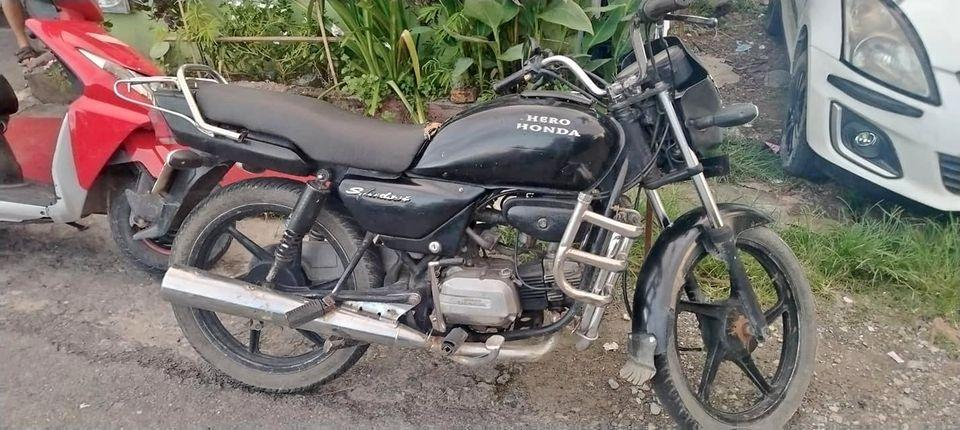bike: (106, 0, 821, 430)
